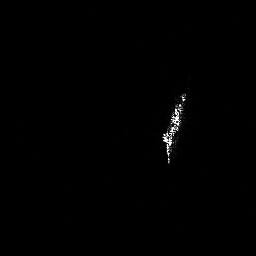ship: (162, 89, 188, 167)
